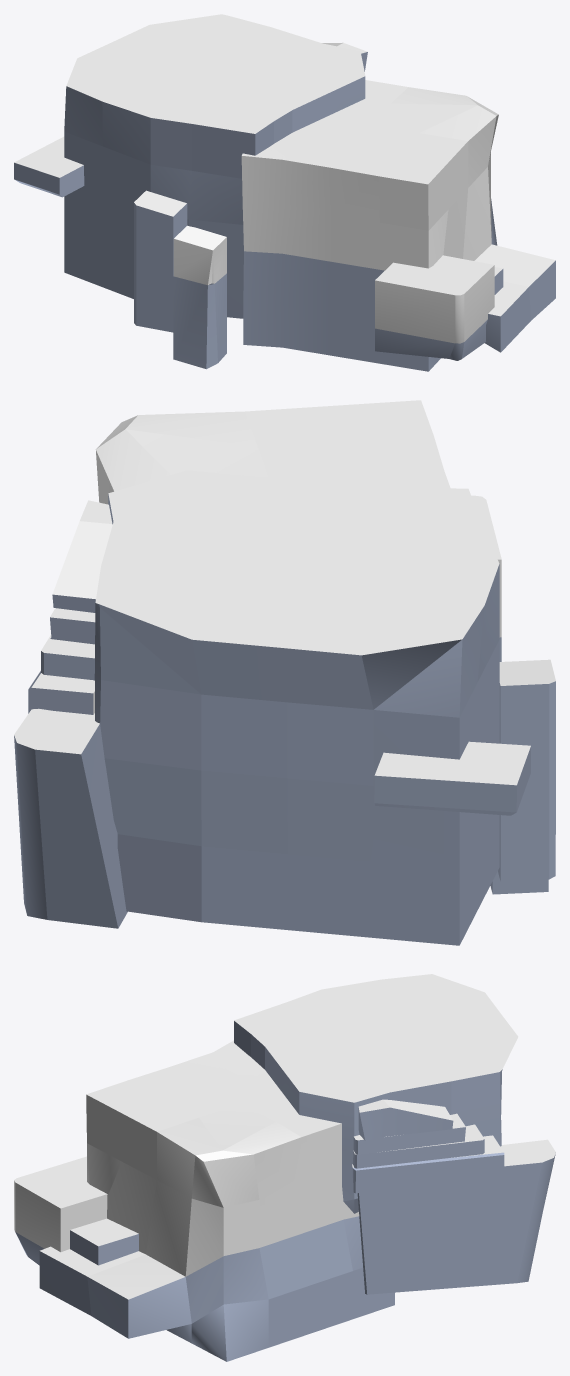
The model's file is MAIN ISLAND TERRAIN10.fbx.
The picture shows the model from 3 angles, top to bottom: view 1: azimuth 30°, elevation 25°; view 2: azimuth 150°, elevation 25°; view 3: azimuth 270°, elevation 25°; orthographic projection. The views are drawn at different scales.
Parts seen in each view (by area): view 1: MainIslandTerrain.001; view 2: MainIslandTerrain.001; view 3: MainIslandTerrain.001.
Boxes of the visible parts, x1,y1,x2,y2 form: MainIslandTerrain.001: (14,14,555,371); MainIslandTerrain.001: (14,400,555,945); MainIslandTerrain.001: (14,974,555,1361).
Size of the model in its own units: 9000 by 5013 by 10663.
